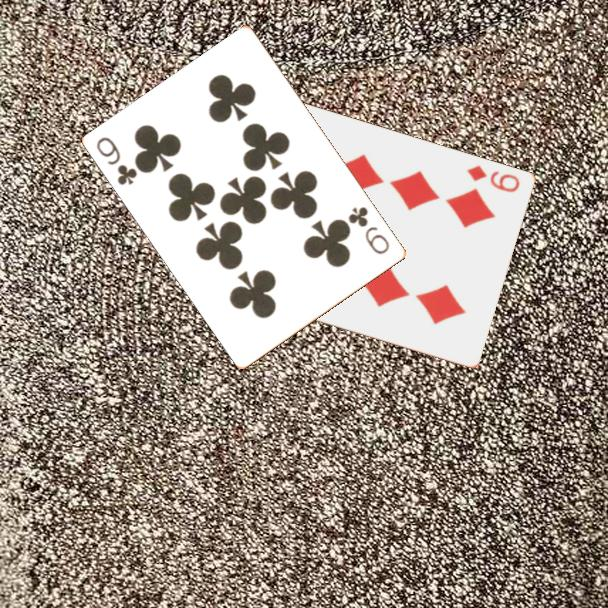c09: (345, 203, 393, 258), (93, 133, 141, 188)
d09: (463, 162, 522, 196)
